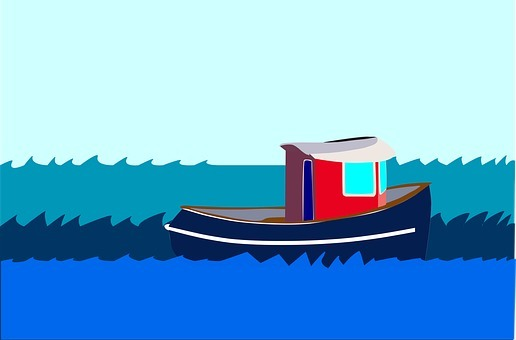boat: (166, 128, 442, 267)
